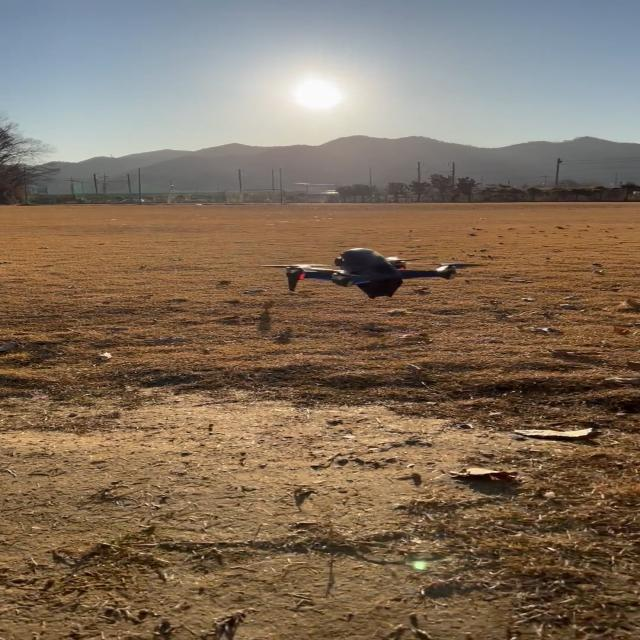drone: (258, 247, 482, 299)
